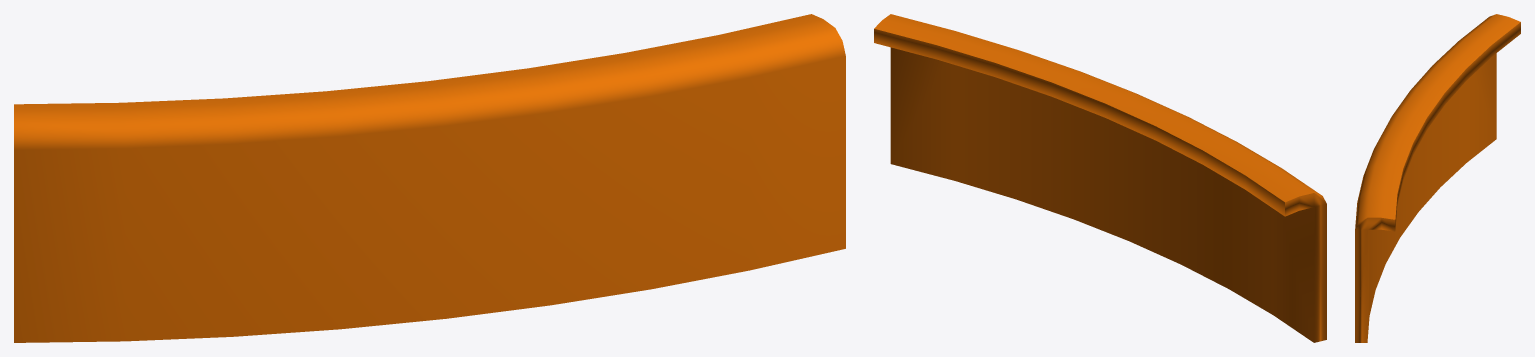
Rendered from Plastic_Pipe_D_Right.fbx.
3 renders of one model, left to right at view 1: azimuth 30°, elevation 25°; view 2: azimuth 150°, elevation 25°; view 3: azimuth 270°, elevation 25°, orthographic. The views are drawn at different scales.
Parts seen in each view (by area): view 1: Plastic_Pipe_D_Right; view 2: Plastic_Pipe_D_Right; view 3: Plastic_Pipe_D_Right.
Part boxes in pixels (x1,y1,x2,y2): Plastic_Pipe_D_Right: (14,14,845,342); Plastic_Pipe_D_Right: (874,14,1326,342); Plastic_Pipe_D_Right: (1355,14,1520,342).
Bounding box in the file's own units: 8.72 × 2.47 × 2.96.
